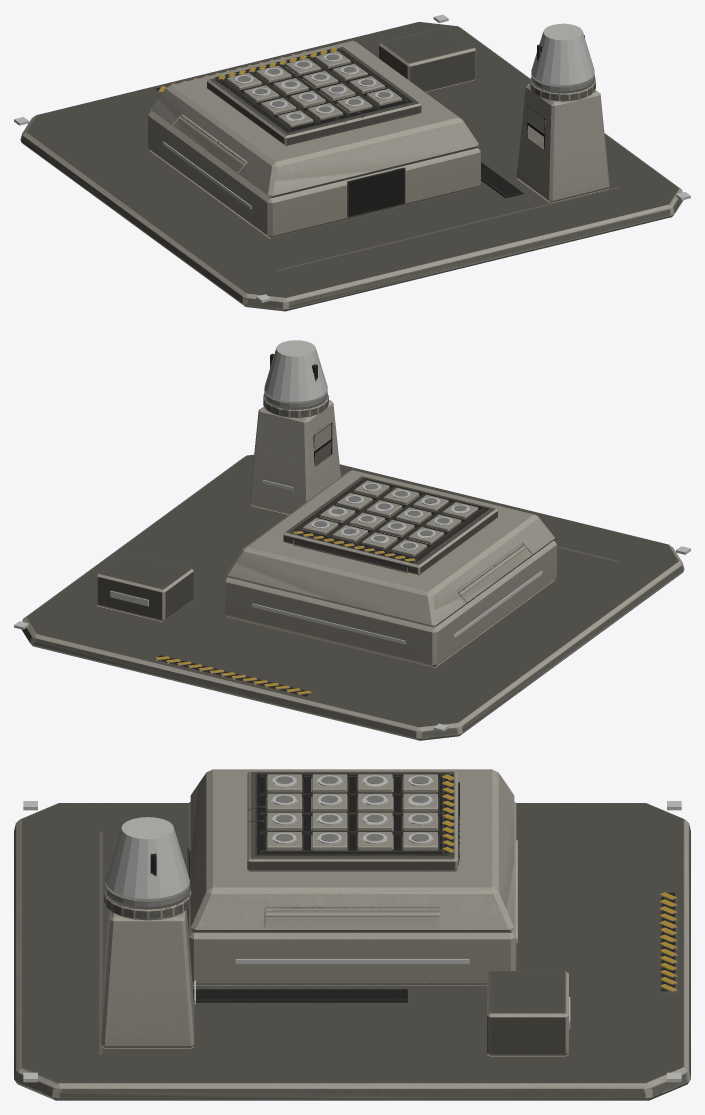
Rendered from ord_sanctum.fbx.
3 renders of one model, top to bottom at view 1: azimuth 30°, elevation 25°; view 2: azimuth 150°, elevation 25°; view 3: azimuth 270°, elevation 25°, orthographic. The views are drawn at different scales.
Parts seen in each view (by area): view 1: base_bar, launcher_bar, launcher_glow_weapon_bar, base_glow_running_bar; view 2: base_bar, launcher_bar, base_glow_running_bar, launcher_glow_weapon_bar; view 3: base_bar, launcher_bar, launcher_glow_weapon_bar, base_glow_running_bar.
Part boxes in pixels (x1,y1,x2,y2): base_bar: (20, 21, 683, 311); launcher_bar: (207, 46, 421, 145); launcher_glow_weapon_bar: (235, 53, 393, 121); base_glow_running_bar: (14, 14, 690, 302); base_bar: (21, 340, 684, 740); launcher_bar: (283, 476, 497, 575); base_glow_running_bar: (14, 480, 690, 731); launcher_glow_weapon_bar: (311, 483, 469, 550); base_bar: (14, 769, 690, 1100); launcher_bar: (247, 771, 459, 871); launcher_glow_weapon_bar: (272, 775, 432, 843); base_glow_running_bar: (23, 801, 681, 1082).
Bounding box in the file's own units: 2315 × 1020 × 2315.
Materials: 2 (2 with a texture image).
